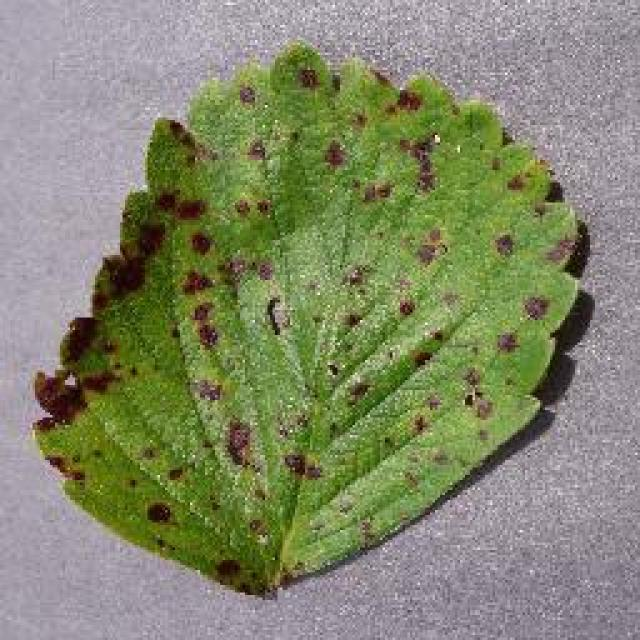Strawberry___Leaf_scorch: (17, 17, 595, 615)
